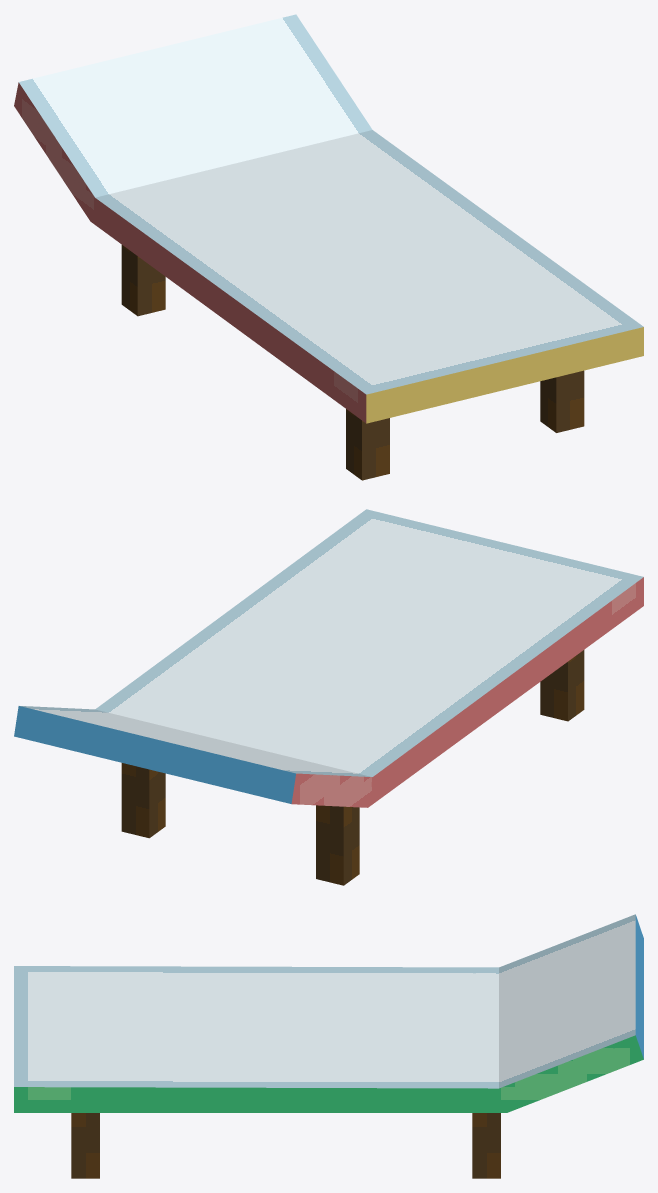
Rendered from sunbed.gltf.
3 renders of one model, top to bottom at view 1: azimuth 30°, elevation 25°; view 2: azimuth 150°, elevation 25°; view 3: azimuth 270°, elevation 25°, orthographic. The views are drawn at different scales.
Parts seen in each view (by area): view 1: cube (×4); view 2: cube (×4); view 3: cube (×3).
Part boxes in pixels (left/top/right/bottom): cube (×4): left=14, top=14, right=643, bottom=480; cube (×4): left=14, top=509, right=643, bottom=885; cube (×3): left=14, top=914, right=643, bottom=1178.
Size of the model in its own units: 10 by 6 by 21.99.
1 material, 1 textured.
